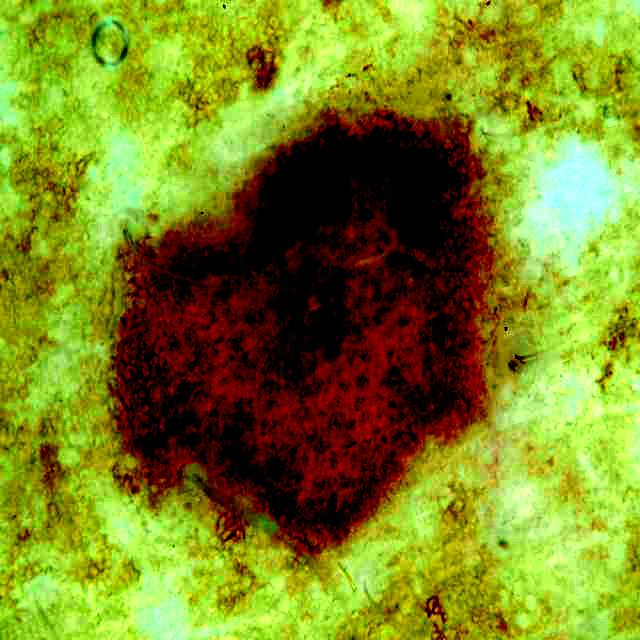NV: (117, 119, 484, 551)
